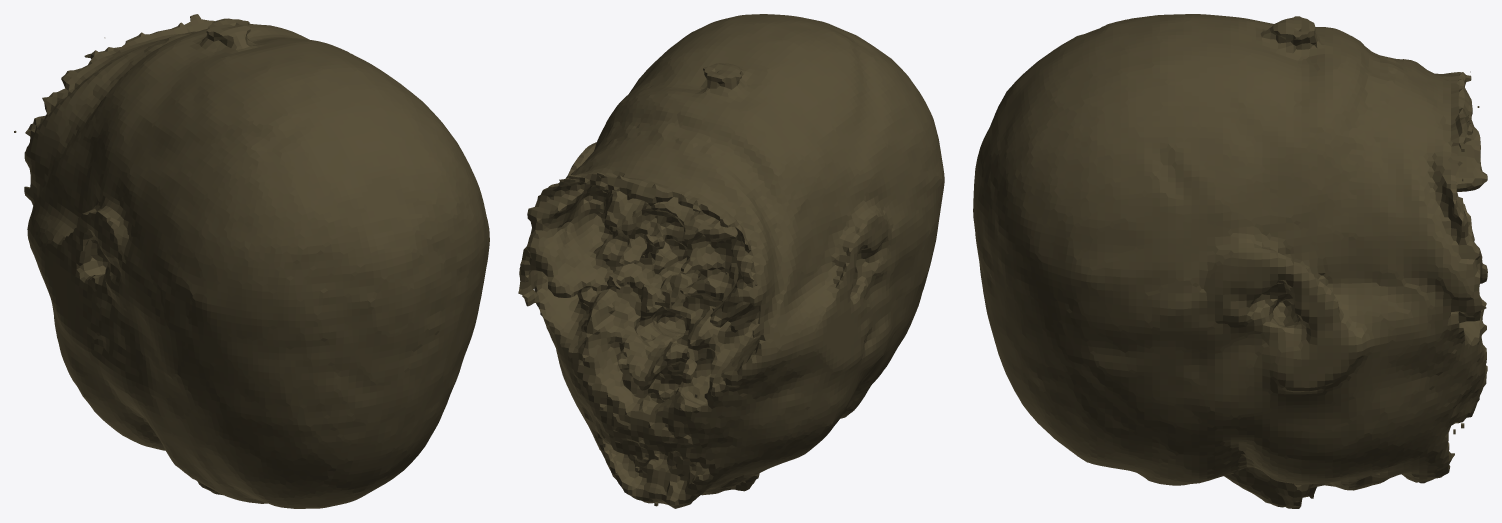
Rendered from headCompMesh.obj.
The picture shows the model from 3 angles, left to right: view 1: azimuth 30°, elevation 25°; view 2: azimuth 150°, elevation 25°; view 3: azimuth 270°, elevation 25°; orthographic projection. The views are drawn at different scales.
Parts seen in each view (by area): view 1: head; view 2: head; view 3: head.
Part boxes in pixels (x1=…): head: x1=14, y1=14, x2=489, y2=508; head: x1=518, y1=14, x2=944, y2=508; head: x1=973, y1=14, x2=1487, y2=508.
Size of the model in its own units: 3.38 by 4.67 by 4.58.
